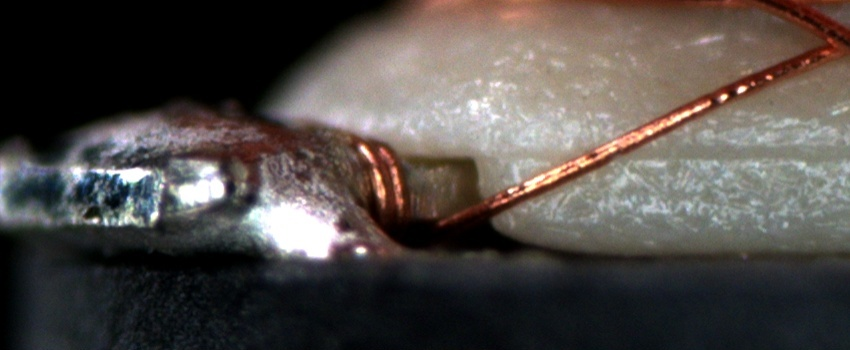CL: (795, 14, 850, 70)
DL: (511, 122, 850, 182)
TE: (353, 126, 412, 225)
